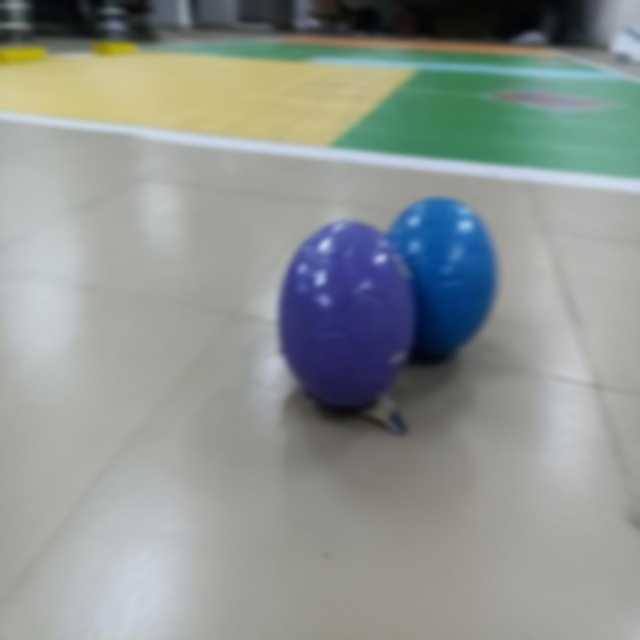blue_ball: (393, 194, 496, 372)
purple_ball: (269, 212, 415, 424)
